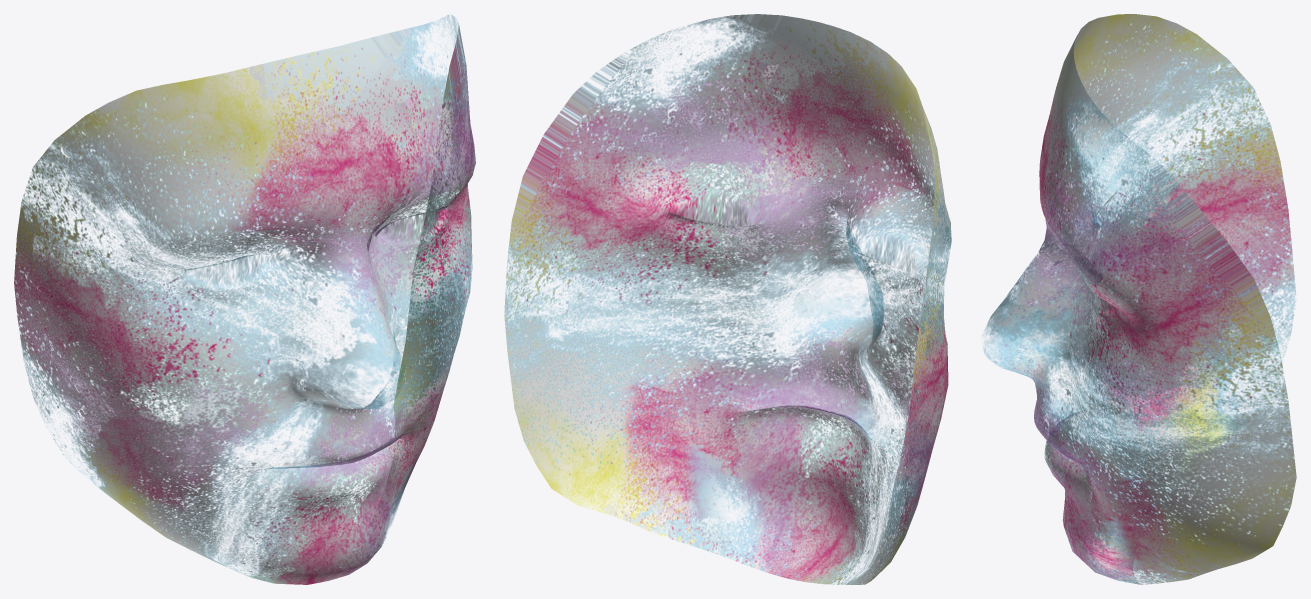
File: face-holy.glb
3 renders of one model, left to right at view 1: azimuth 30°, elevation 25°; view 2: azimuth 150°, elevation 25°; view 3: azimuth 270°, elevation 25°, orthographic. The views are drawn at different scales.
Visible parts, largest first — view 1: faceMesh; view 2: faceMesh; view 3: faceMesh.
Part boxes in pixels (left/top/right/bottom): faceMesh: left=14, top=15, right=475, bottom=584; faceMesh: left=504, top=14, right=951, bottom=584; faceMesh: left=983, top=14, right=1296, bottom=584.
Size of the model in its own units: 0.1495 by 0.1868 by 0.1037.
1 material, 1 textured.
